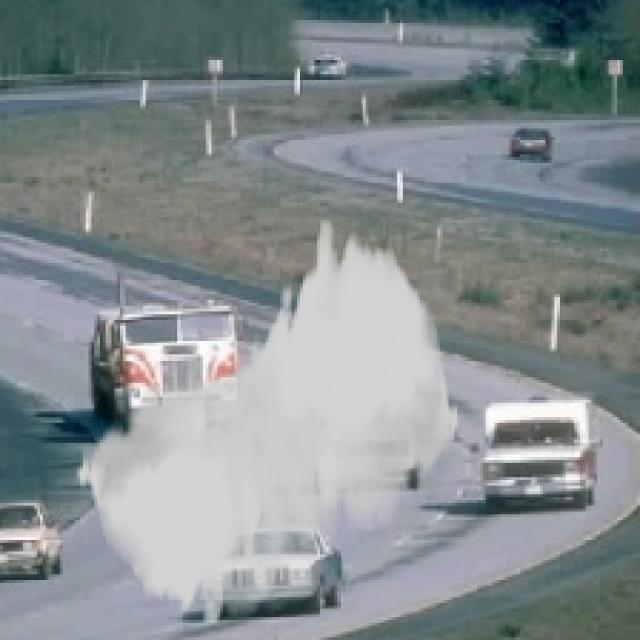Smoke: (74, 220, 460, 626)
